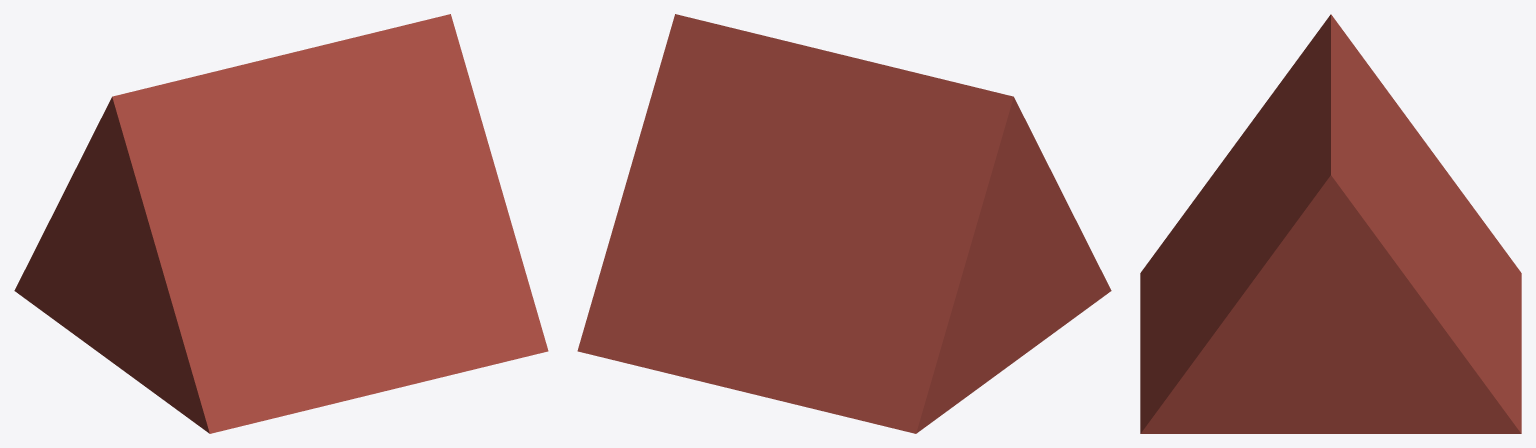
File: harbor-pitched-roof.lod0.glb
The picture shows the model from 3 angles, left to right: view 1: azimuth 30°, elevation 25°; view 2: azimuth 150°, elevation 25°; view 3: azimuth 270°, elevation 25°; orthographic projection. The views are drawn at different scales.
Parts seen in each view (by area): view 1: harbor-pitched-roof__roof; view 2: harbor-pitched-roof__roof; view 3: harbor-pitched-roof__roof.
Part boxes in pixels (x1,y1,x2,y2): harbor-pitched-roof__roof: (14, 14, 548, 433); harbor-pitched-roof__roof: (577, 14, 1111, 433); harbor-pitched-roof__roof: (1140, 14, 1521, 433).
Bounding box in the file's own units: 2 × 1.5 × 2.
